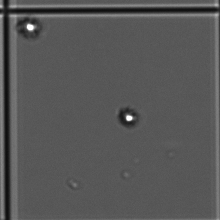Living Cell: (18, 17, 44, 38), (119, 107, 140, 128)
